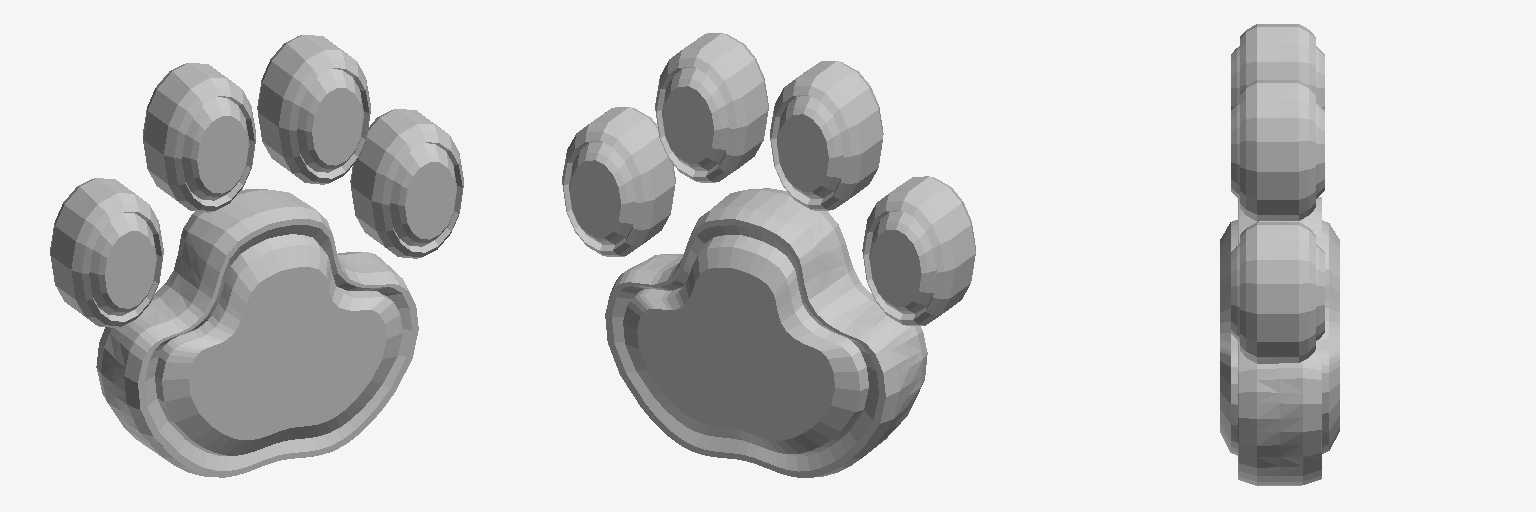
The model's file is pata_low_BUENO.obj.
3 views of the same model, side by side, from view 1: azimuth 30°, elevation 25°; view 2: azimuth 150°, elevation 25°; view 3: azimuth 270°, elevation 25° (orthographic).
Bounding box in the file's own units: 7.92 × 7.73 × 2.11.